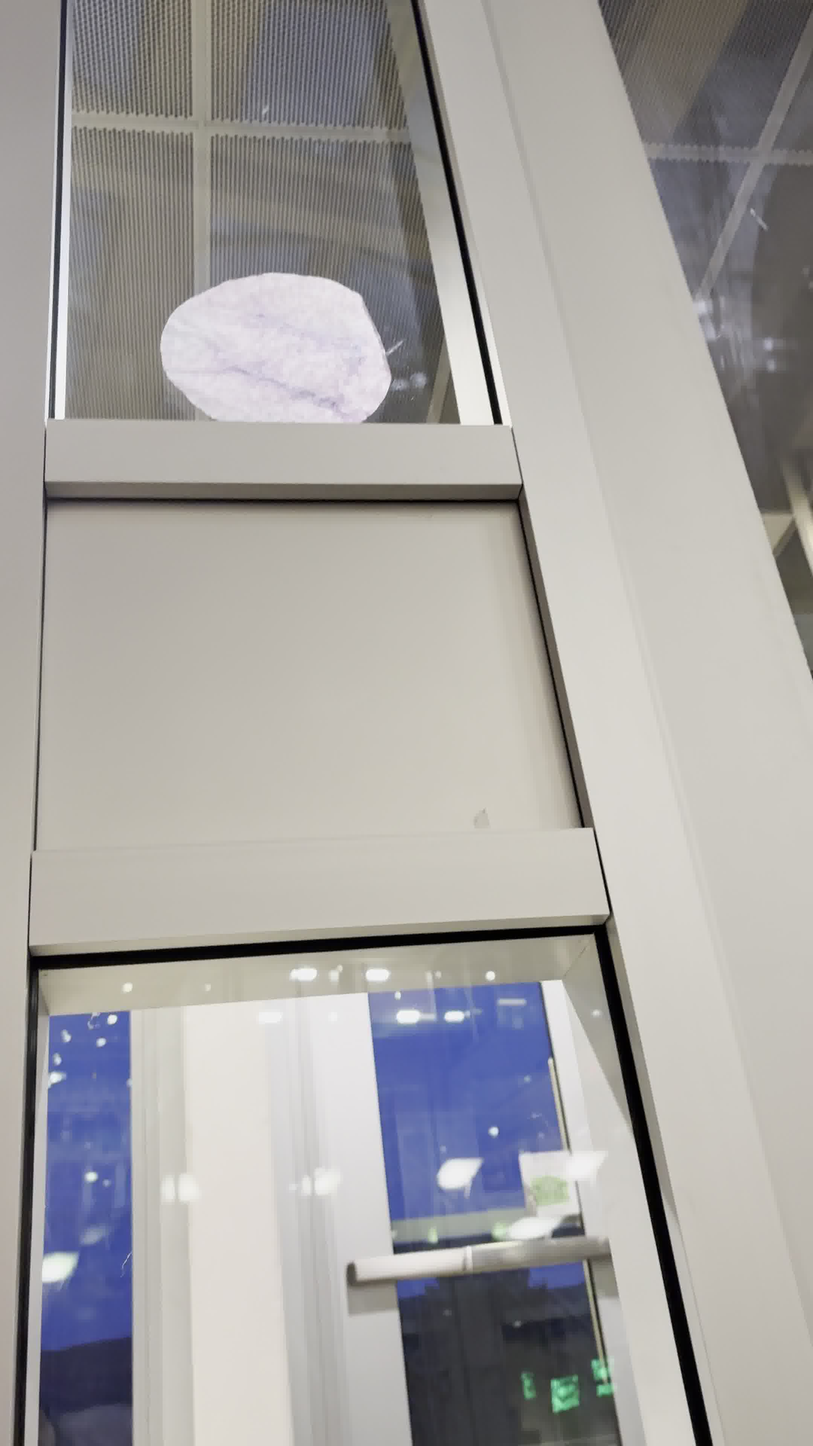Target: (156, 271, 396, 430)
